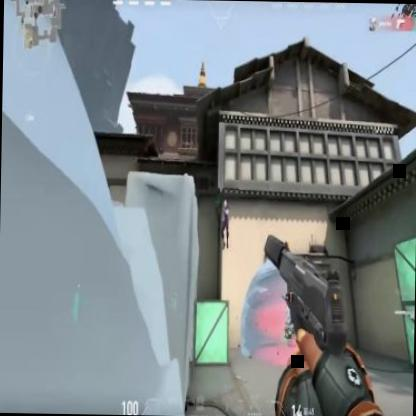enemy: (218, 199, 231, 250)
enemy_head: (223, 199, 226, 207)
